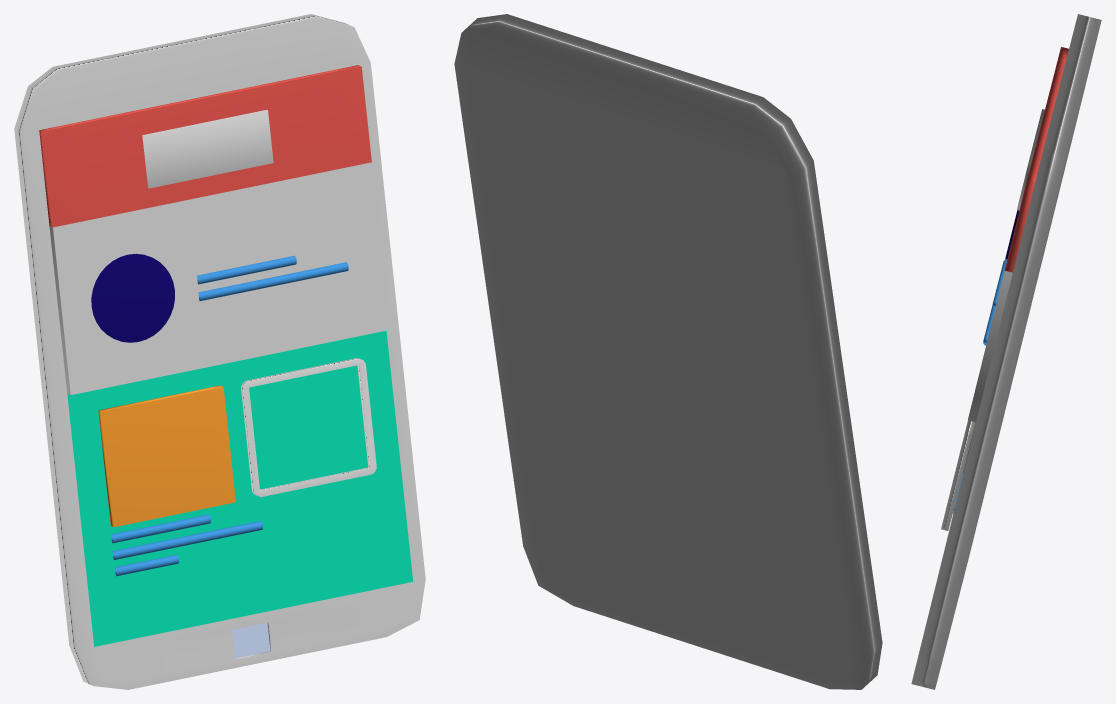
Rendered from phone.glb.
The picture shows the model from 3 angles, left to right: view 1: azimuth 30°, elevation 25°; view 2: azimuth 150°, elevation 25°; view 3: azimuth 270°, elevation 25°; orthographic projection. The views are drawn at different scales.
Parts seen in each view (by area): view 1: Cube.099, Cube.101, Cube.102, Cube.118, Cube.115, Cube.116, Cube.119, Cylinder.010, Cube.120, Cylinder.008, Cylinder.011, Cube.117 (+4 smaller); view 2: Cube.099; view 3: Cube.099, Cube.118, Cube.114, Cube.120, Cube.119.
Part boxes in pixels (x1,y1,x2,y2): Cube.099: [14, 14, 425, 689]; Cube.101: [53, 162, 389, 394]; Cube.102: [96, 337, 381, 640]; Cube.118: [39, 65, 371, 227]; Cube.115: [98, 385, 235, 527]; Cube.116: [67, 330, 412, 646]; Cube.119: [142, 110, 273, 188]; Cylinder.010: [91, 253, 174, 342]; Cube.120: [241, 358, 376, 496]; Cylinder.008: [112, 521, 262, 559]; Cylinder.011: [198, 262, 348, 301]; Cube.117: [232, 623, 270, 658]; Cube.099: [454, 14, 882, 689]; Cube.099: [911, 14, 1101, 689]; Cube.118: [1004, 47, 1068, 272]; Cube.114: [968, 271, 1012, 422]; Cube.120: [941, 420, 975, 530]; Cube.119: [1017, 109, 1044, 210].
Size of the model in its own units: 0.4787 by 0.7918 by 0.2426.
